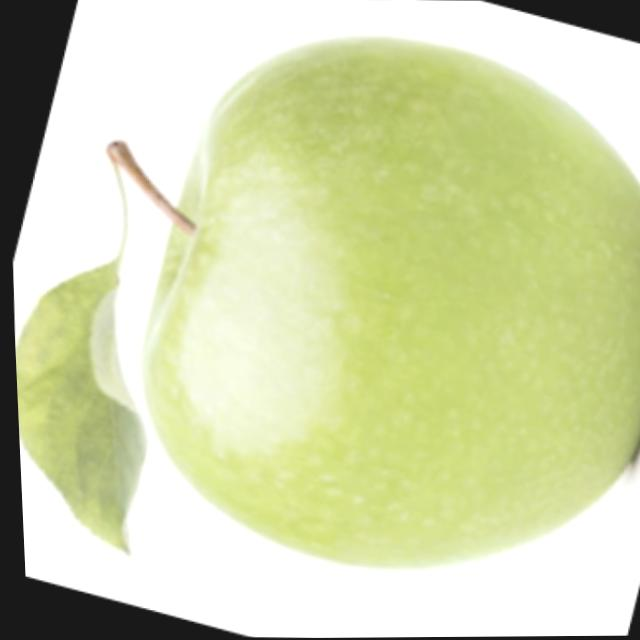organik: (107, 25, 640, 578)
